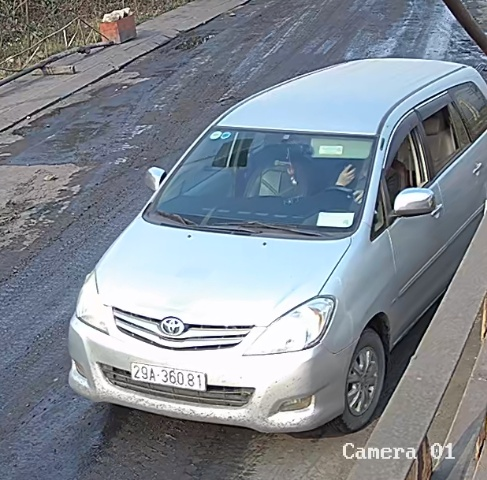vehicle plate: (127, 356, 210, 394)
